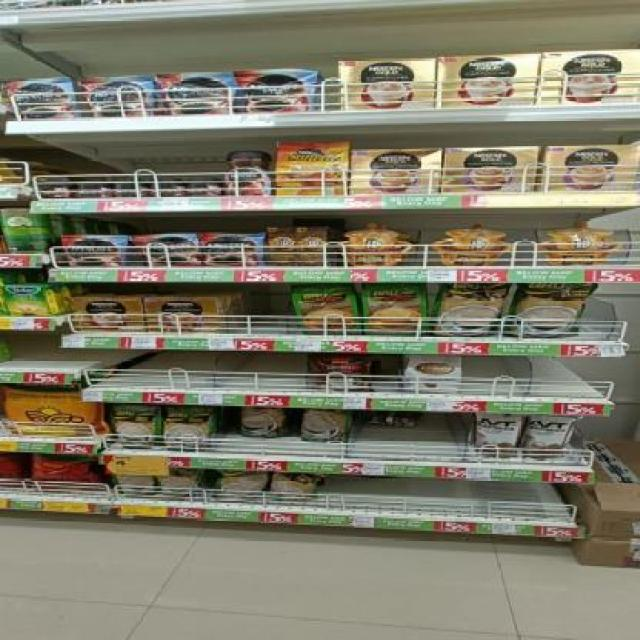Coffee: (276, 143, 346, 199), (164, 74, 236, 115), (242, 72, 312, 113), (85, 79, 147, 116), (11, 80, 69, 118), (225, 151, 272, 197), (139, 234, 196, 268), (204, 234, 259, 266), (64, 236, 121, 266), (72, 179, 111, 198), (186, 178, 219, 196), (34, 180, 68, 197), (115, 180, 147, 197), (150, 178, 180, 196)
